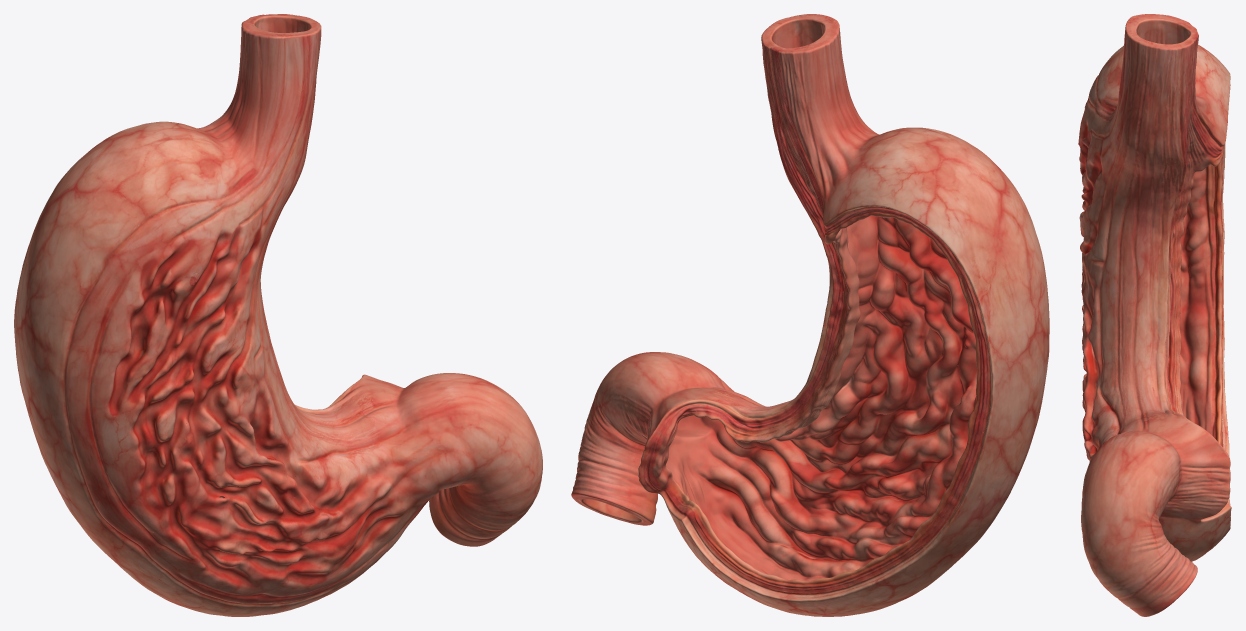
File: human-stomach.glb
The picture shows the model from 3 angles, left to right: view 1: azimuth 30°, elevation 25°; view 2: azimuth 150°, elevation 25°; view 3: azimuth 270°, elevation 25°; orthographic projection. The views are drawn at different scales.
Visible parts, largest first — view 1: human-stomach; view 2: human-stomach; view 3: human-stomach.
Part boxes in pixels (x1,y1,x2,y2): human-stomach: (14, 14, 542, 616); human-stomach: (571, 14, 1049, 616); human-stomach: (1078, 14, 1231, 616).
Bounding box in the file's own units: 0.2407 × 0.28 × 0.0735.
1 material, 1 textured.
